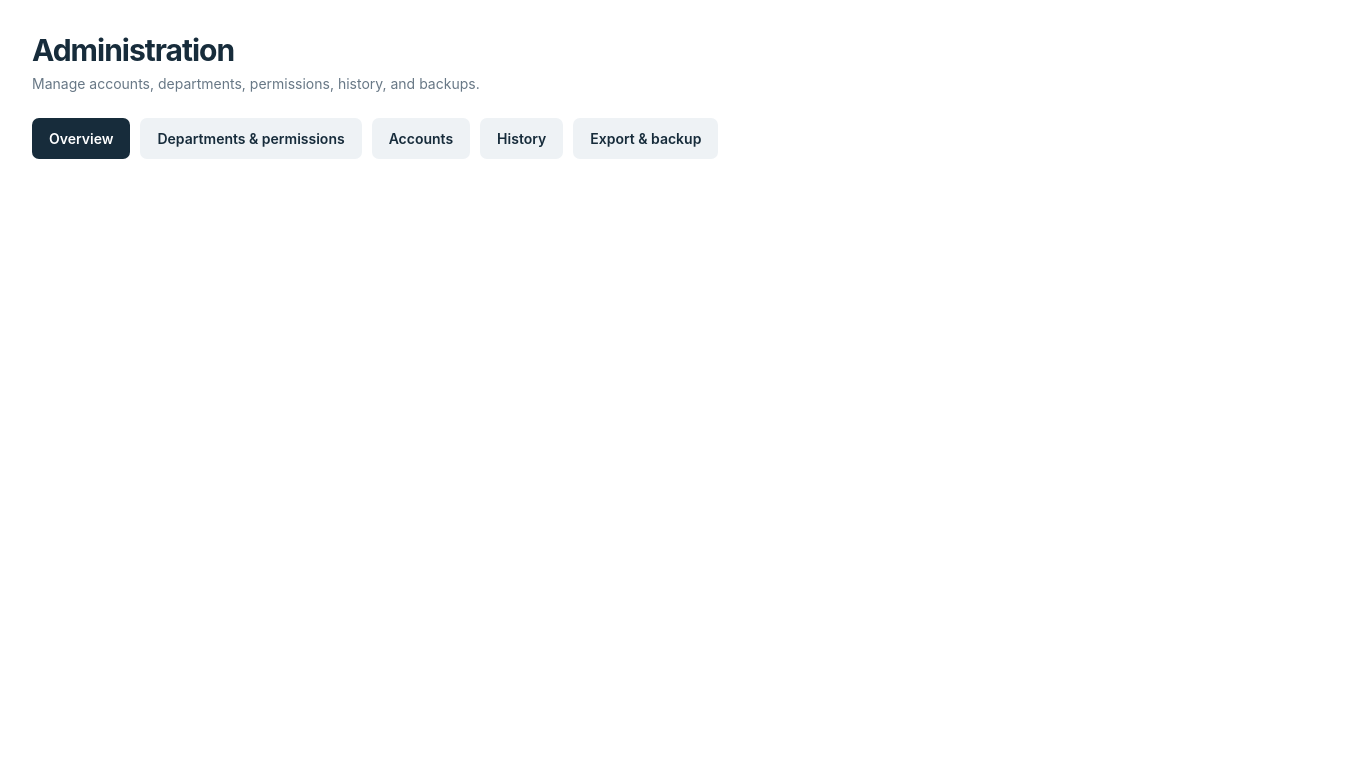
removed records can be restored from the admin history
The width and height of the screenshot is (1366, 768).
Click the tab "History" at (522, 138), box [480, 118, 563, 159]
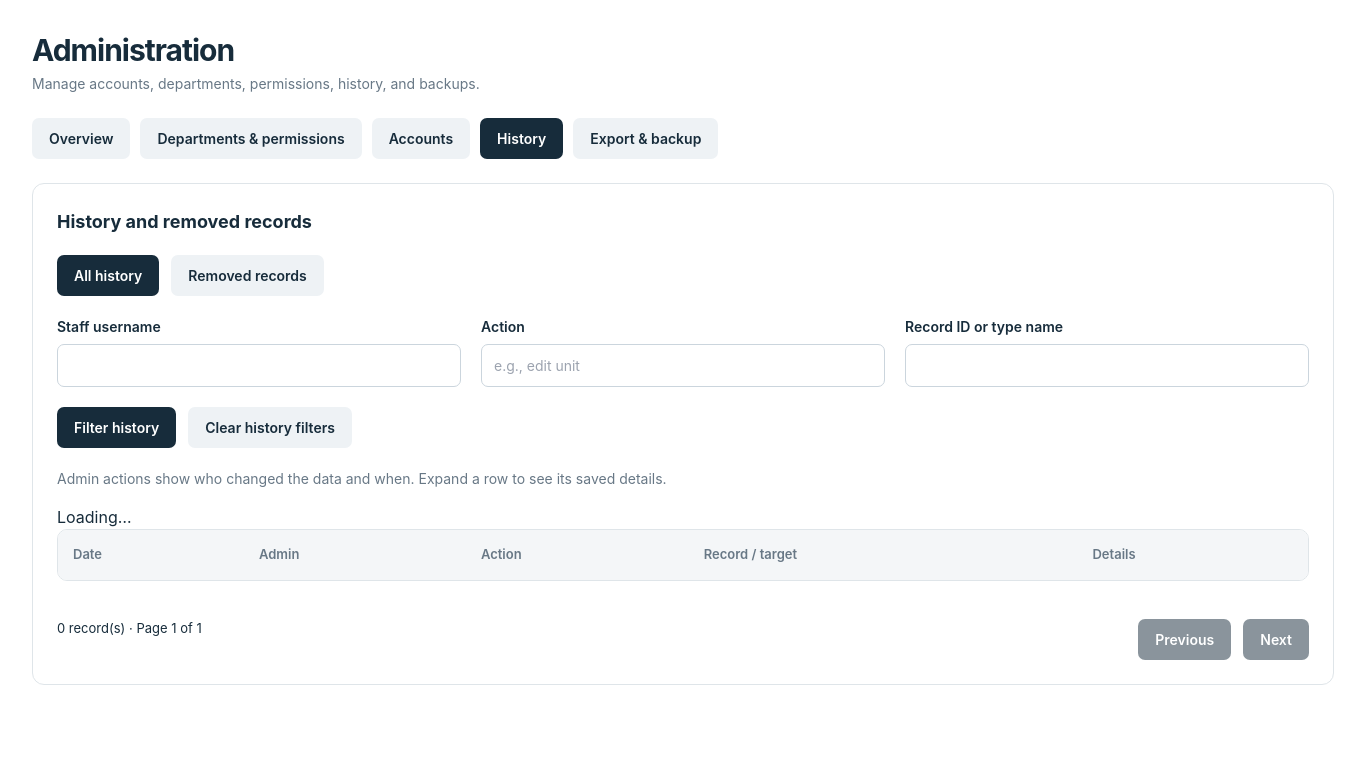
Click the button "Removed records" at (248, 276), box [171, 255, 324, 296]
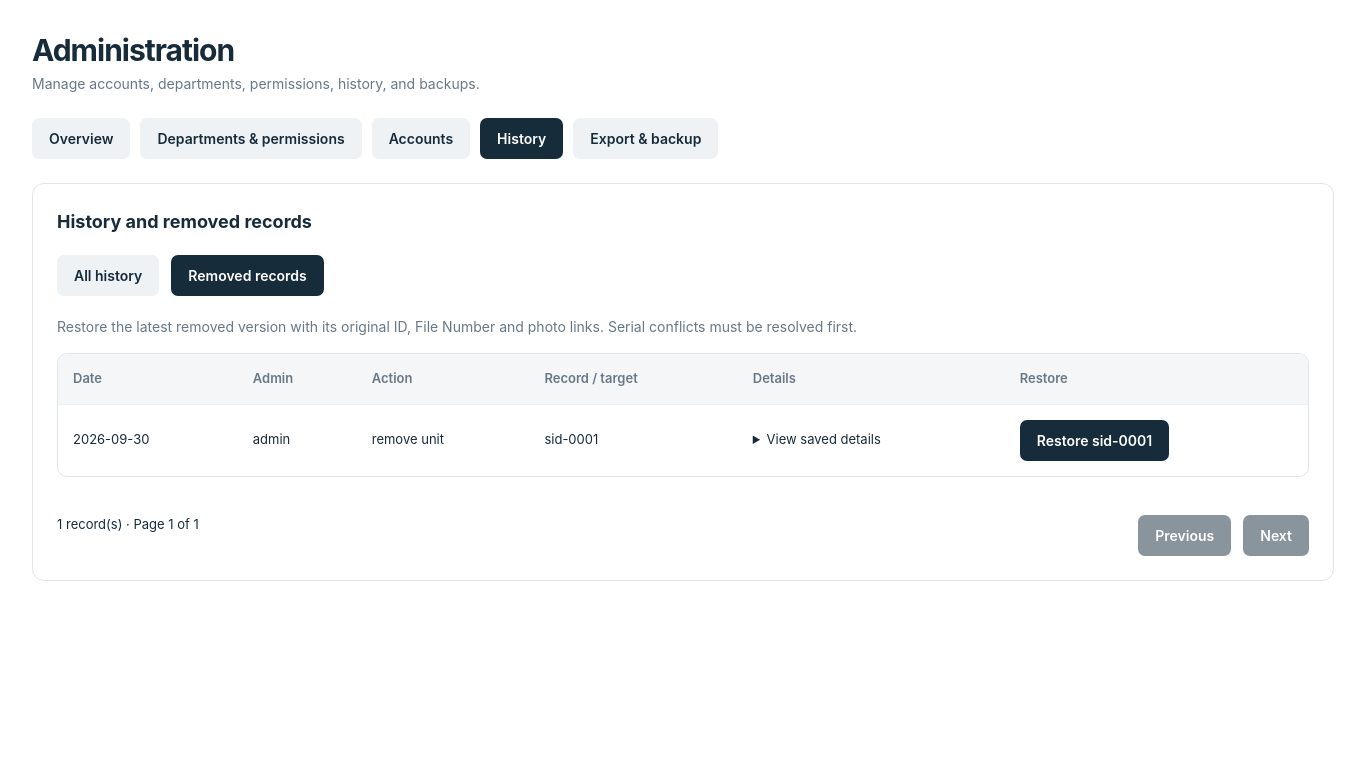
Click the button "Restore sid-0001" at (1094, 440), box [1020, 420, 1169, 460]
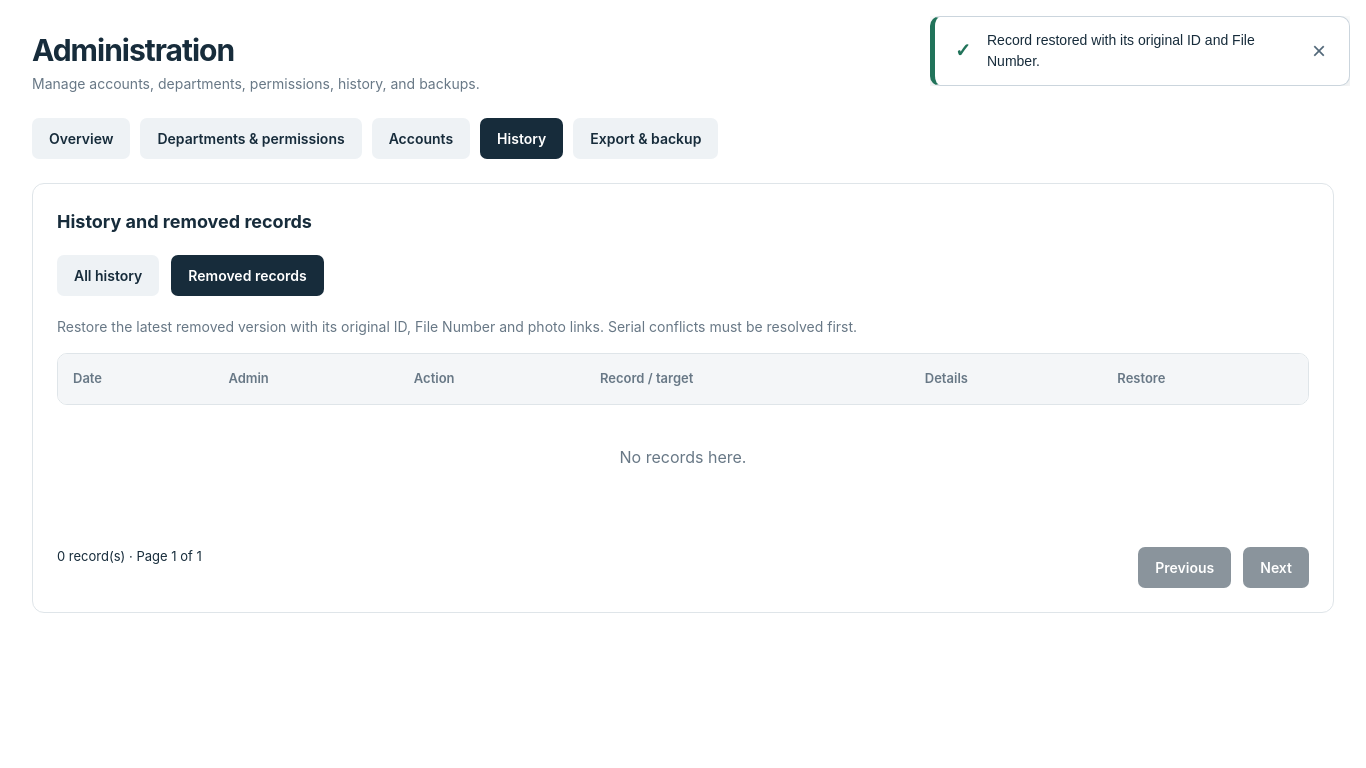
Check: the text "Record restored with its original ID and File Number." is shown, box [987, 30, 1285, 72]
Check: the button "Restore sid-0001" is gone
